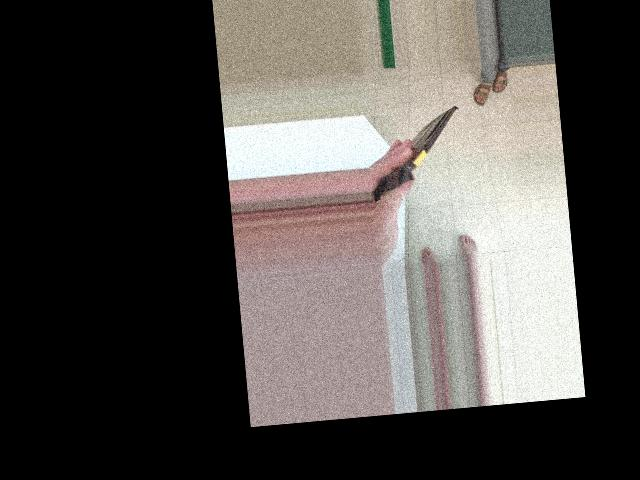chocolate: (402, 113, 505, 214)
